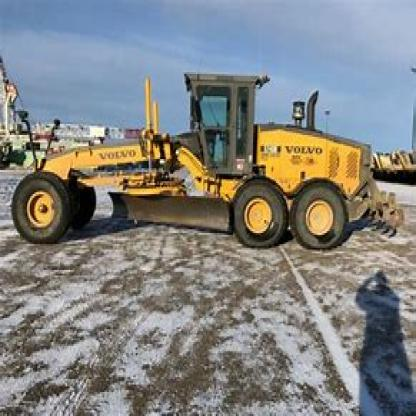bull_dozer/loader/grader: (19, 68, 410, 262)
